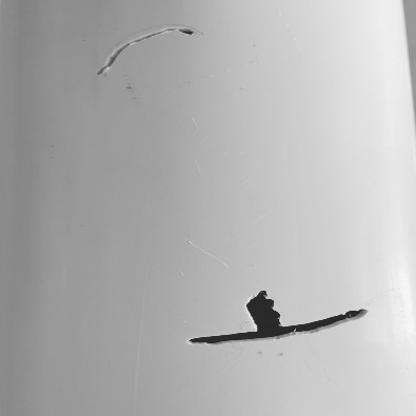fengxi: (190, 310, 368, 343), (95, 25, 198, 77)
kongdong: (241, 291, 290, 329)
